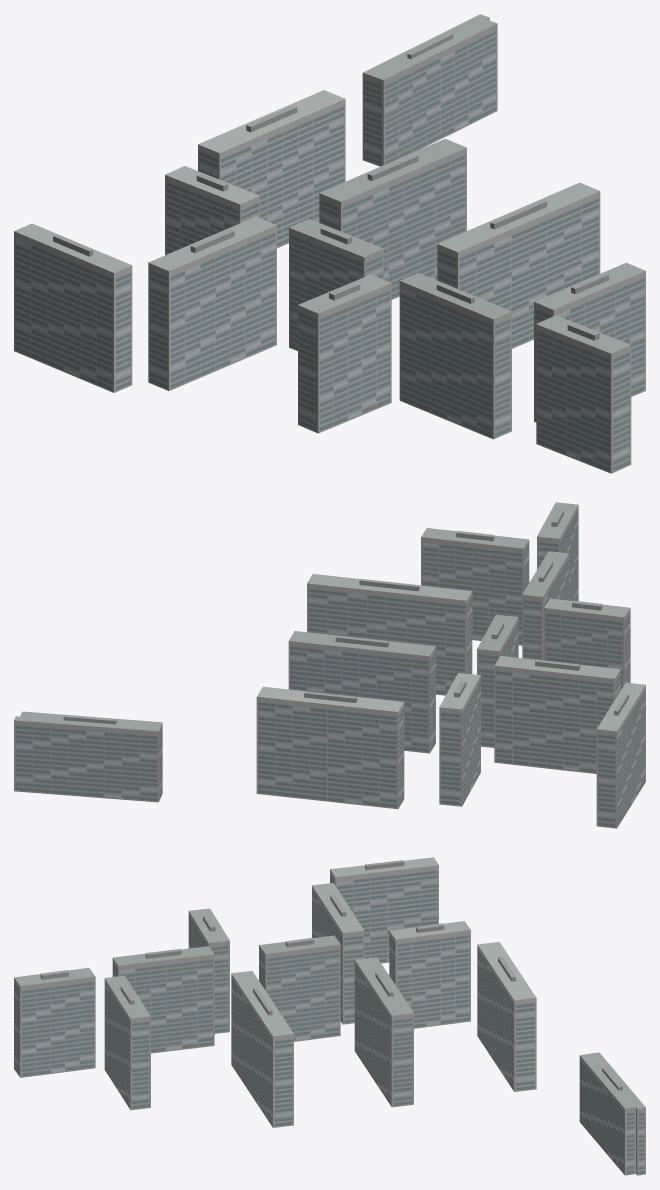
File: apt-a13980513.glb
The picture shows the model from 3 angles, top to bottom: view 1: azimuth 30°, elevation 25°; view 2: azimuth 150°, elevation 25°; view 3: azimuth 270°, elevation 25°; orthographic projection. The views are drawn at different scales.
Visible parts, largest first — view 1: apt-a13980513; view 2: apt-a13980513; view 3: apt-a13980513.
Boxes of the visible parts, left/top/right/bottom form: apt-a13980513: left=14, top=14, right=645, bottom=473; apt-a13980513: left=14, top=502, right=645, bottom=828; apt-a13980513: left=14, top=857, right=645, bottom=1175.
Size of the model in its own units: 285 by 56 by 335.
